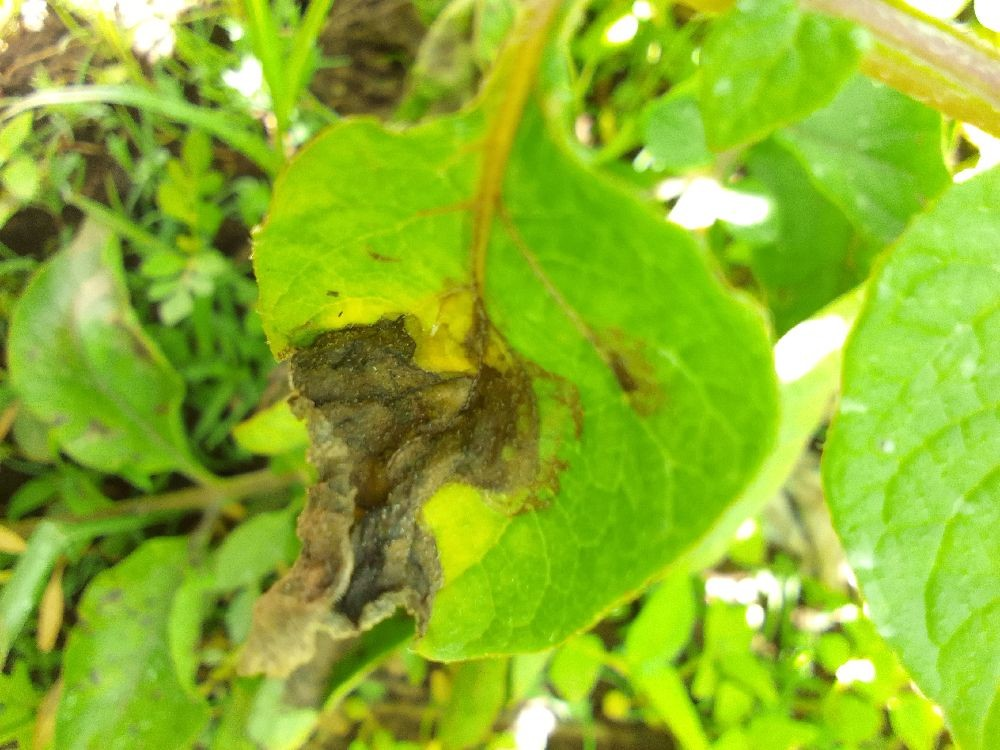late_blight: (73, 447, 316, 572), (295, 0, 441, 131), (0, 189, 96, 273)
